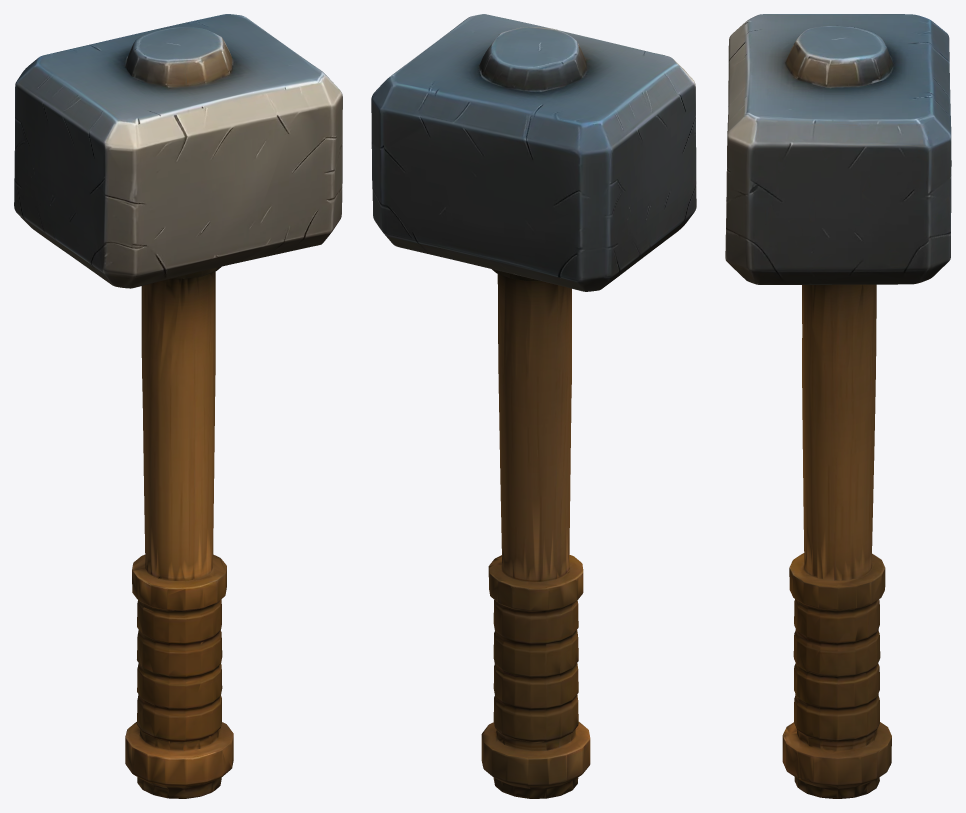
Rendered from warmaul.glb.
3 renders of one model, left to right at view 1: azimuth 30°, elevation 25°; view 2: azimuth 150°, elevation 25°; view 3: azimuth 270°, elevation 25°, orthographic.
Visible parts, largest first — view 1: node_0; view 2: node_0; view 3: node_0.
Part boxes in pixels (x1,y1,x2,y2): node_0: [14, 14, 342, 798]; node_0: [371, 14, 696, 798]; node_0: [725, 14, 951, 798].
Size of the model in its own units: 0.4068 by 1.19 by 0.3299.
Materials: 1 (1 with a texture image).
